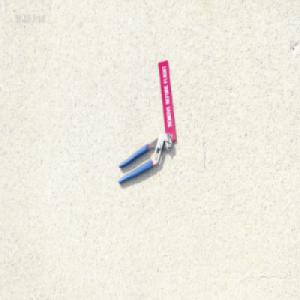Label: (158, 60, 176, 142)
Pliers: (117, 131, 172, 185)
